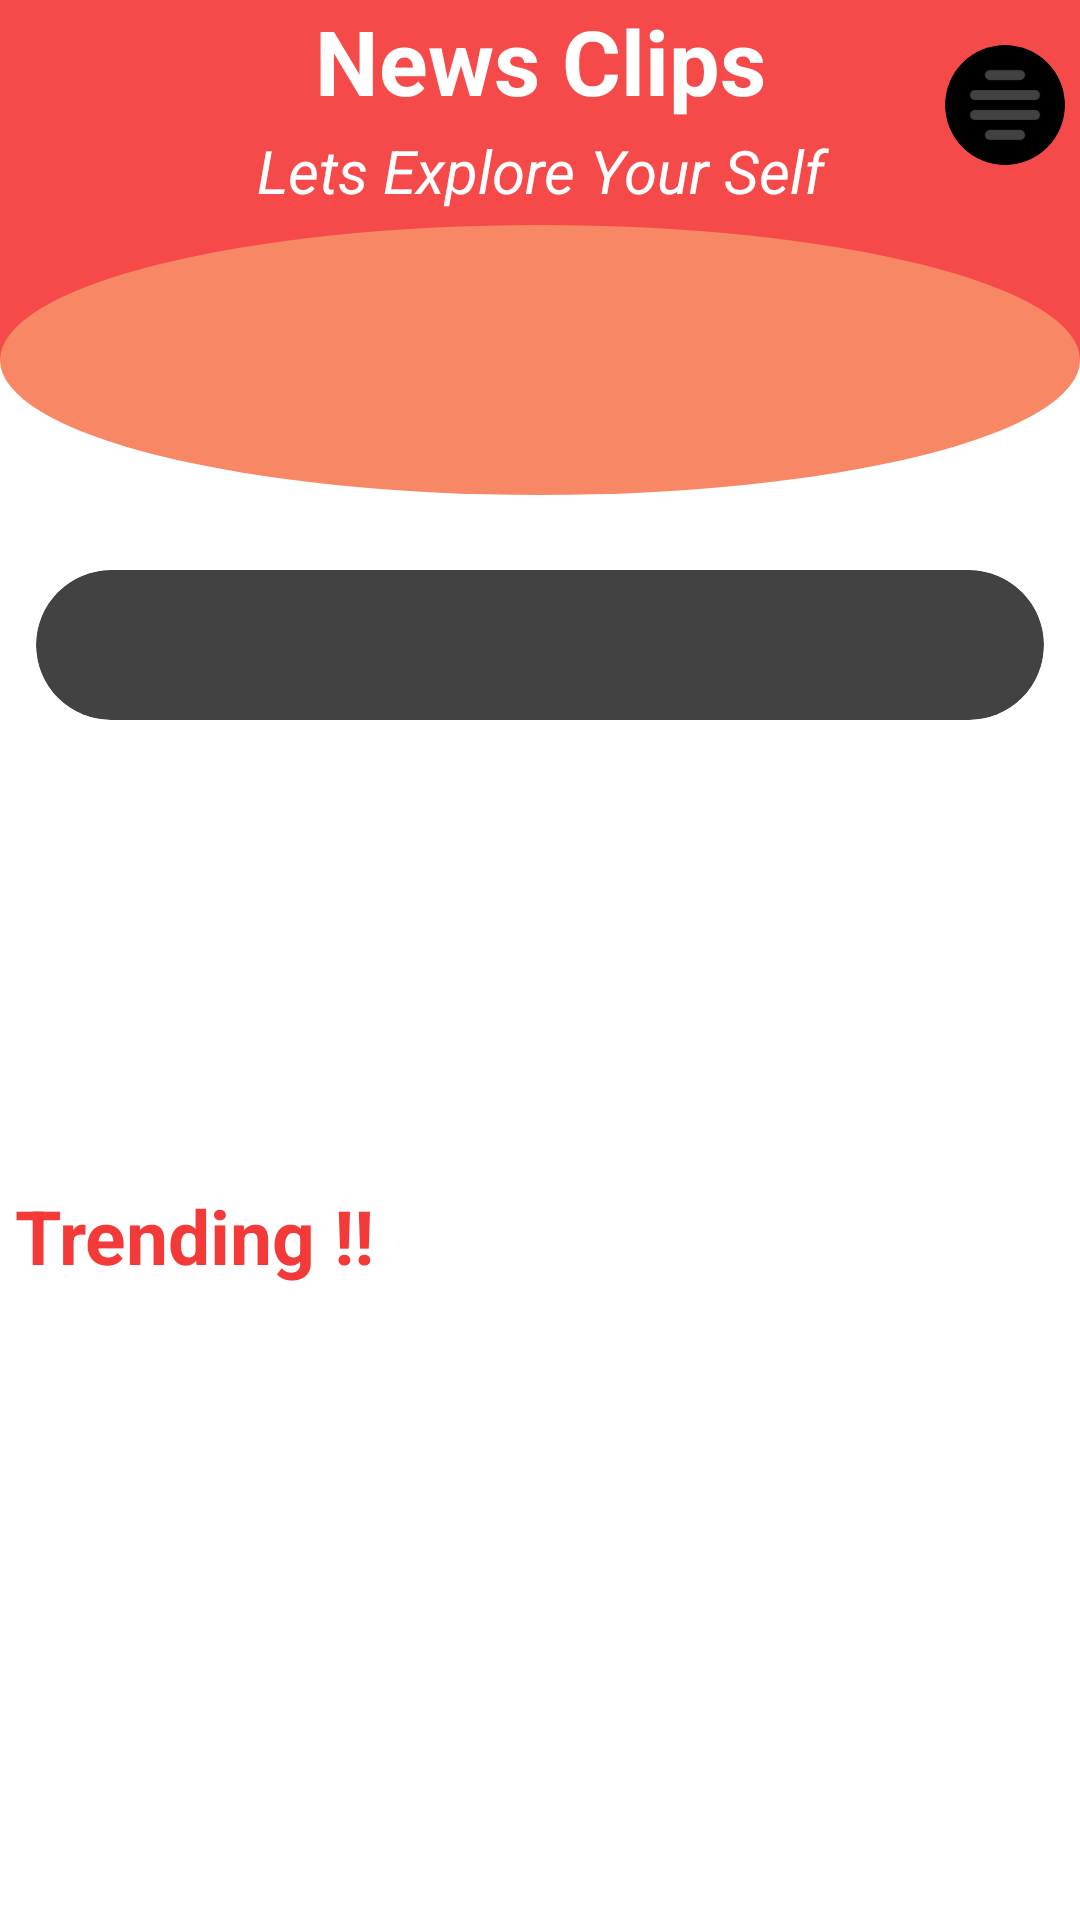

Screen size 1080px x 1920px. Icon name, then its center in pixels as (x=x, y=y):
menu: (x=1005, y=105)
